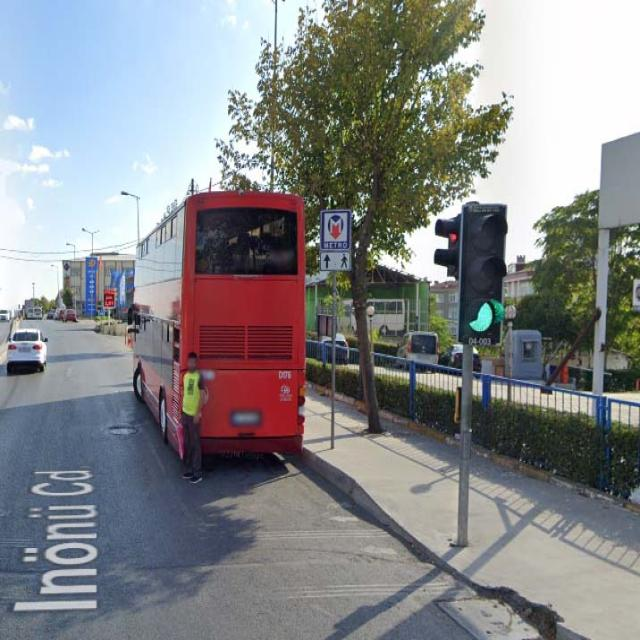yesil: (461, 203, 507, 344)
